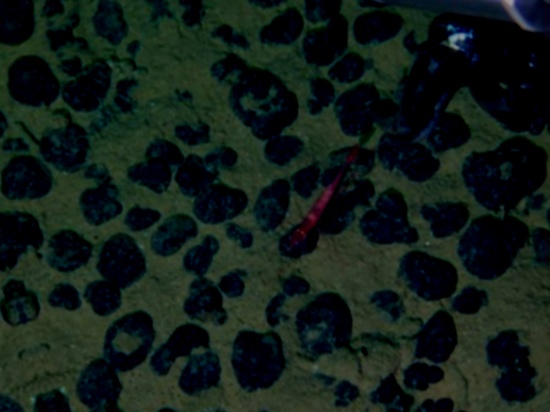halobolite: (229, 70, 299, 150), (287, 289, 361, 361), (457, 212, 530, 277), (407, 303, 477, 365), (484, 336, 543, 405), (393, 246, 462, 304), (233, 328, 287, 396), (166, 305, 223, 364), (365, 188, 420, 242), (203, 265, 259, 312), (105, 238, 150, 295), (32, 162, 83, 212), (420, 104, 477, 146), (113, 364, 160, 412), (386, 135, 436, 180), (369, 361, 413, 412), (78, 185, 121, 236), (65, 71, 106, 124), (1, 135, 40, 190), (205, 55, 253, 99), (288, 210, 343, 247), (515, 216, 550, 274), (18, 87, 63, 132), (52, 9, 96, 55), (96, 36, 149, 73), (251, 12, 313, 43), (315, 57, 363, 97), (1, 28, 41, 75), (81, 360, 119, 409), (369, 283, 410, 328), (1, 278, 42, 322), (203, 17, 251, 54), (229, 180, 266, 227), (417, 202, 468, 236), (179, 172, 228, 206), (321, 375, 367, 411), (324, 20, 368, 57), (132, 184, 178, 218), (404, 362, 444, 400), (117, 312, 163, 345), (110, 81, 149, 118), (85, 279, 125, 315), (96, 1, 134, 38), (183, 233, 219, 272), (139, 138, 181, 171), (156, 212, 193, 249), (329, 92, 373, 121), (460, 283, 489, 327), (111, 162, 154, 190), (252, 146, 295, 174), (23, 208, 59, 241), (184, 358, 218, 392), (82, 136, 116, 170), (46, 280, 78, 315), (61, 220, 93, 255), (169, 144, 203, 175), (140, 1, 179, 26), (270, 176, 300, 208), (197, 138, 233, 164), (1, 196, 19, 244), (1, 1, 34, 27), (199, 206, 225, 239), (39, 387, 65, 412), (188, 1, 216, 21), (1, 391, 27, 412), (1, 68, 11, 93)
